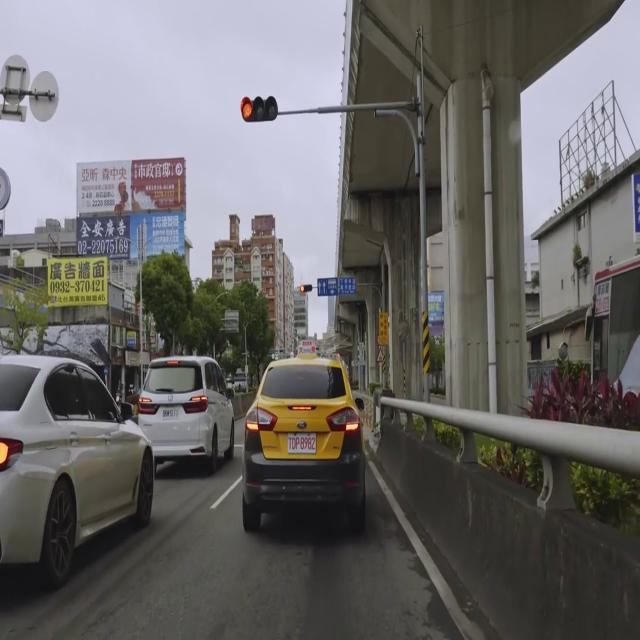red light: (240, 96, 278, 120), (300, 283, 313, 294)
